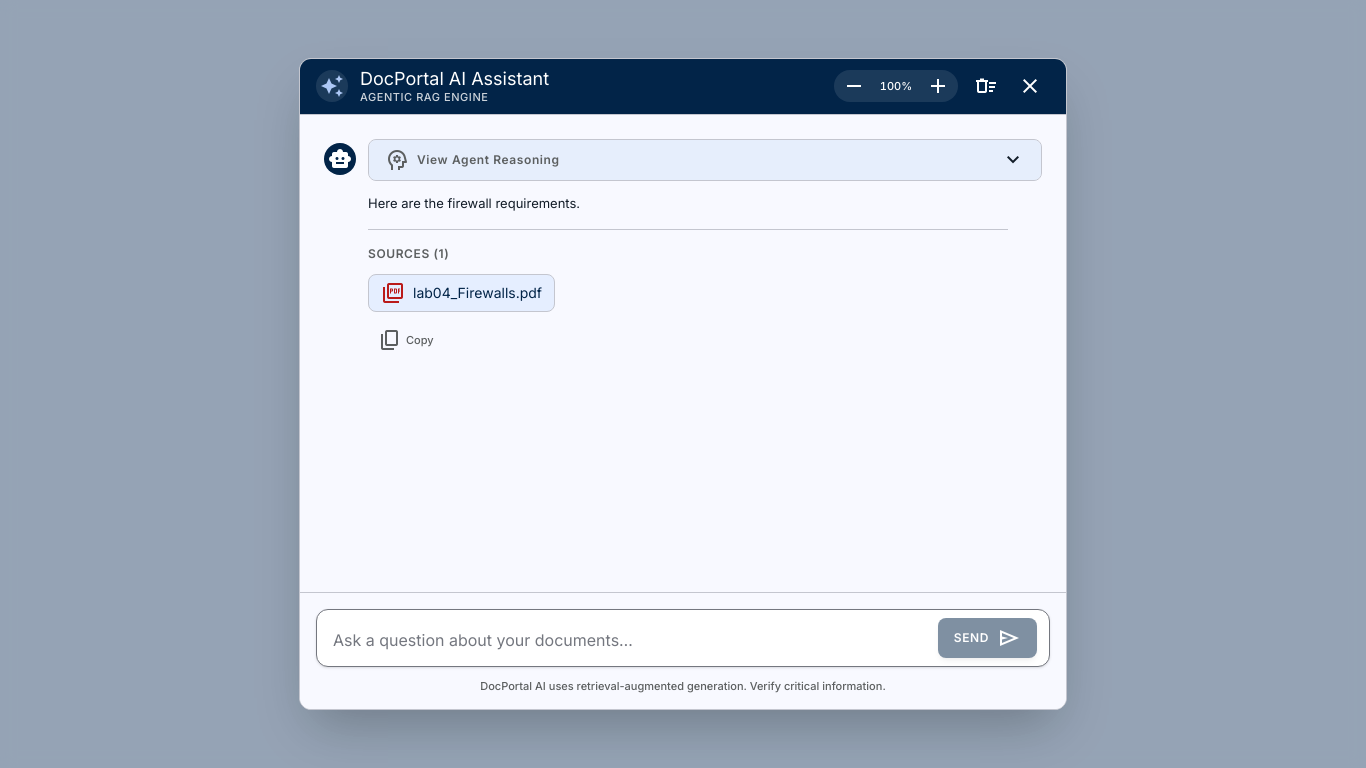
Test: ChatPanel — sources › lists the consulted document inside the collapsible agent reasoning
Step 1. Click the button "View Agent Reasoning" → [488, 159], box [369,140,1041,180]
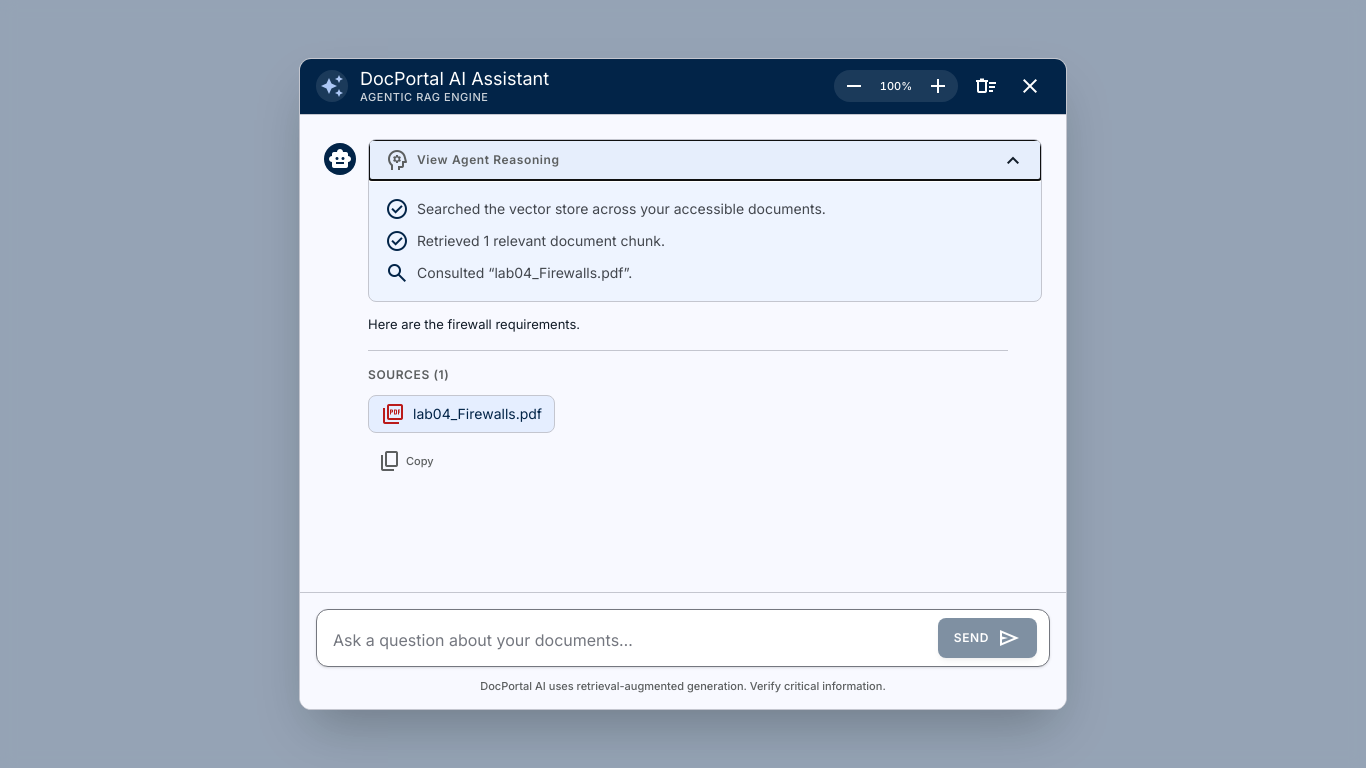
Expected: the text "Retrieved 1 relevant document chunk." is shown, [417,231,665,251]
Expected: the text "Consulted “lab04_Firewalls.pdf”." is shown, [417,263,632,283]
